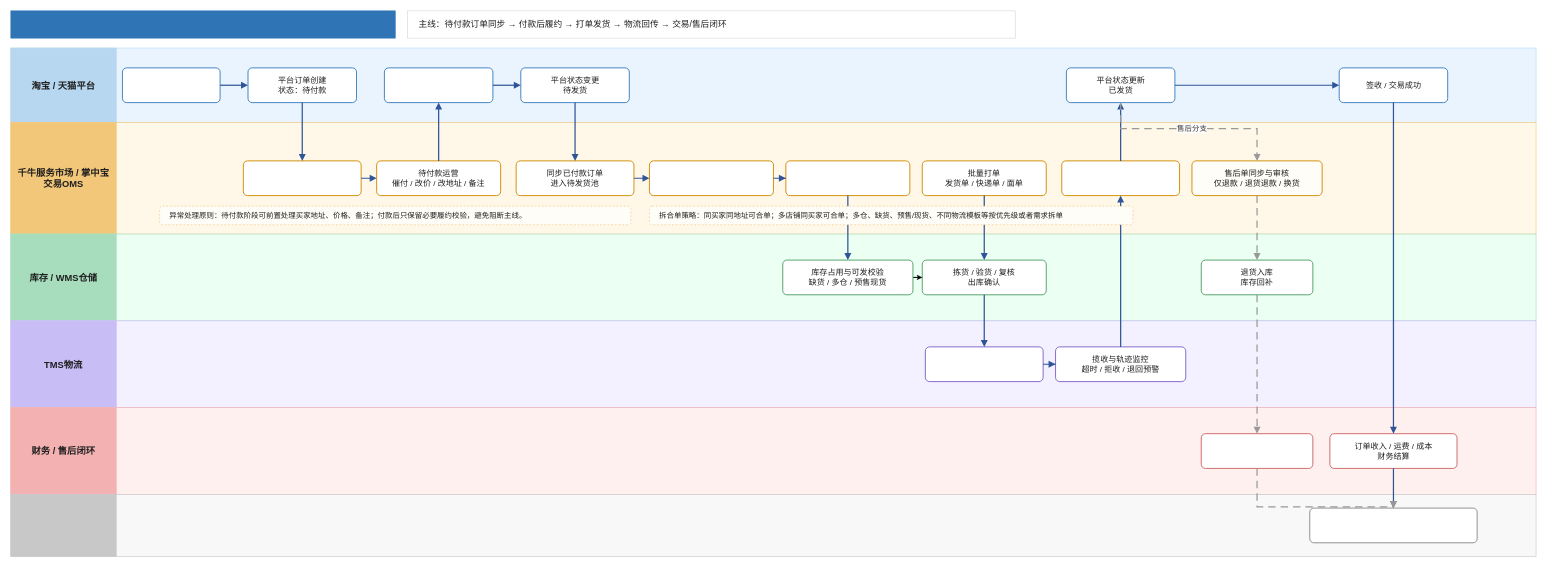
Some shapes in this 1547 by 567 pixel diagram are drawn without their labels. Here are the shapes that lost their labels. From the top down, the centre of each, then its label:
At [202,24]: "掌中宝交易OMS｜淘宝/天猫订单管理流程图".
At [171,85]: "消费者下单".
At [438,85]: "买家完成付款".
At [302,178]: "下拉待付款订单 进入掌中宝OMS".
At [711,178]: "订单校验与拦截 地址 / 商品 / 风险 / 备注".
At [847,178]: "拆合单与配仓 合单 / 拆单 / 物流规则".
At [1120,178]: "发货回传 物流单号 / 发货状态".
At [984,364]: "获取电子面单 生成物流单号".
At [1257,451]: "退款核验 售后完成".
At [63,525]: "数据看板".
At [1393,525]: "经营分析看板 发货效率 / 异常率 / 退款率 / 履约成本".
